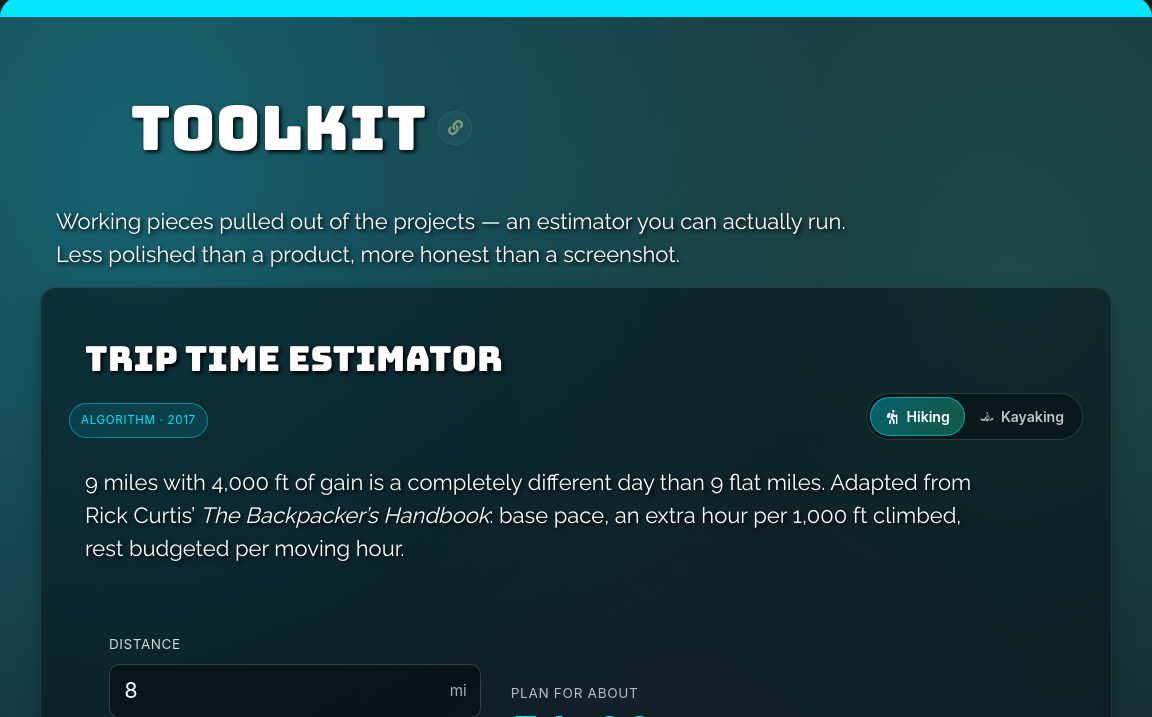
Toolkit › survives an emptied input instead of rendering NaN
Clear the number field with id "hike-miles". click: (295, 691)
box: x1=109 y1=664 x2=481 y2=716
(page scrolled)
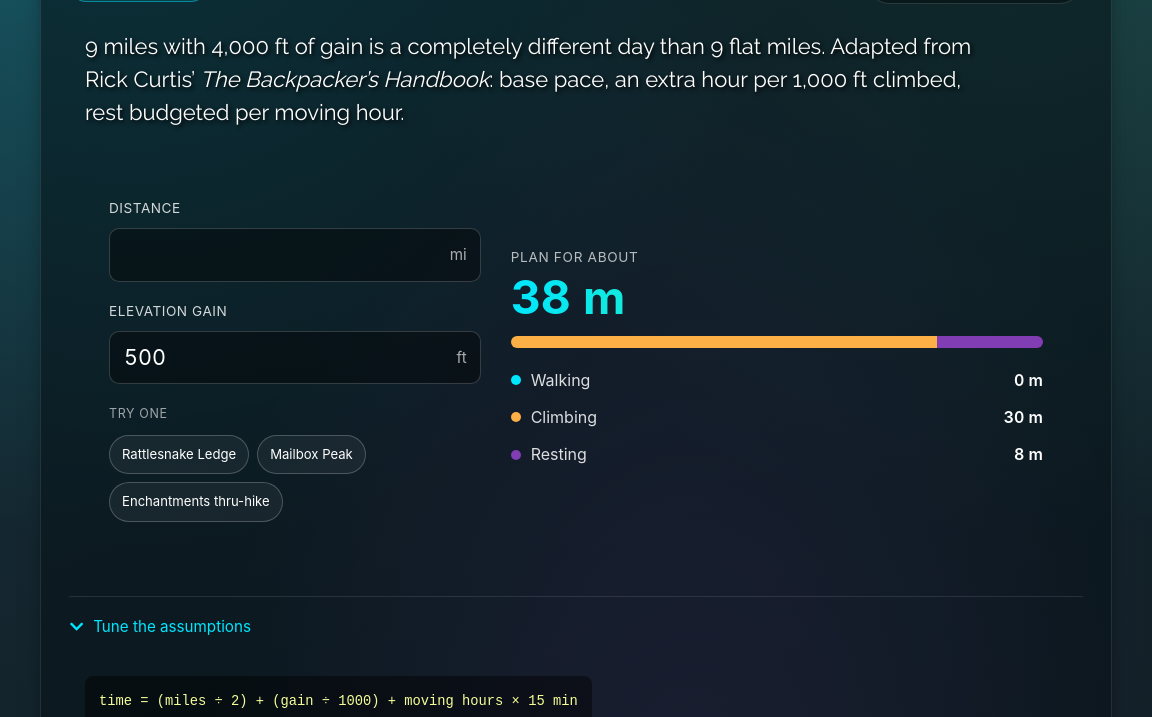
Clear the number field with id "hike-gain". click: (295, 357)
box: x1=109 y1=331 x2=481 y2=384
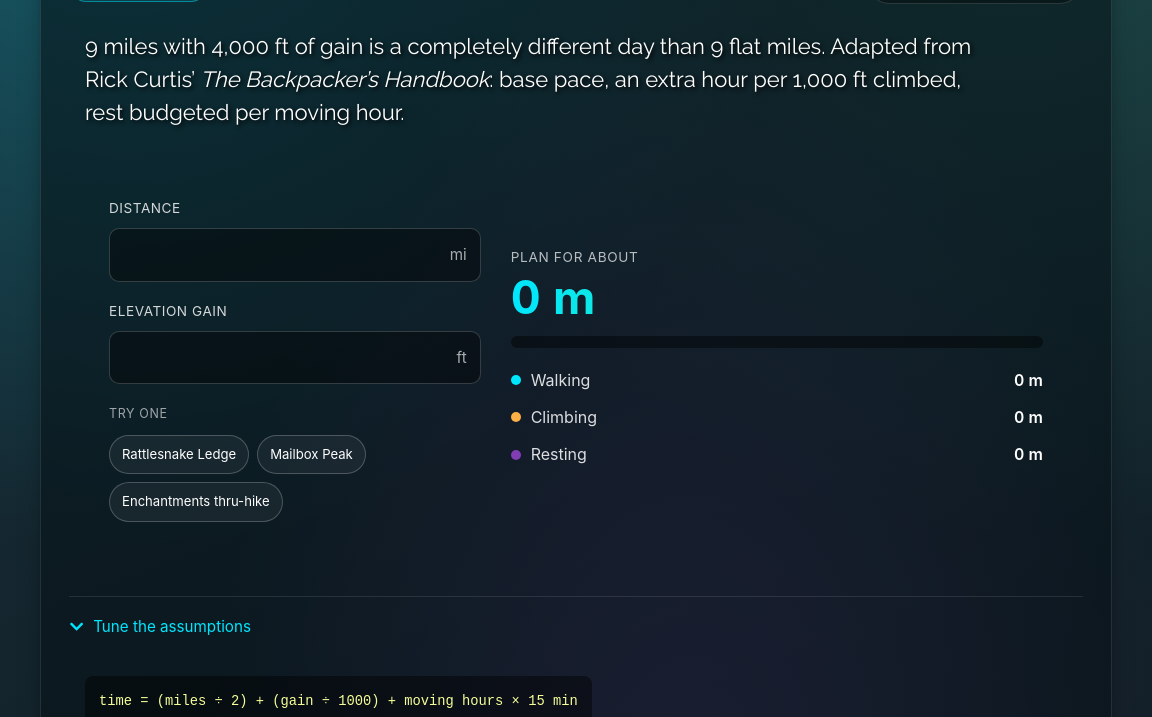
Expected: the text with test id "hiking-total" reads "0 m", x1=511 y1=269 x2=596 y2=325
